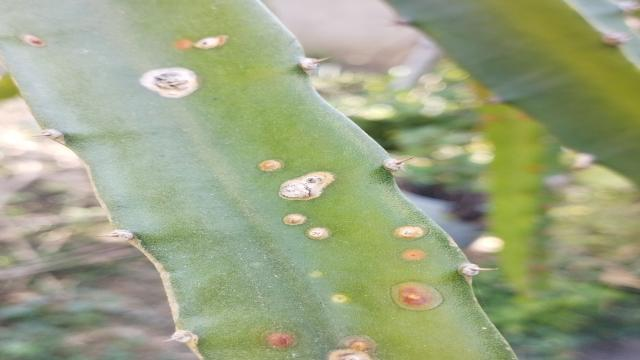stemcanker: (272, 206, 360, 314), (386, 217, 432, 271), (163, 27, 247, 55), (12, 27, 63, 54), (248, 144, 289, 177), (259, 324, 299, 351)
